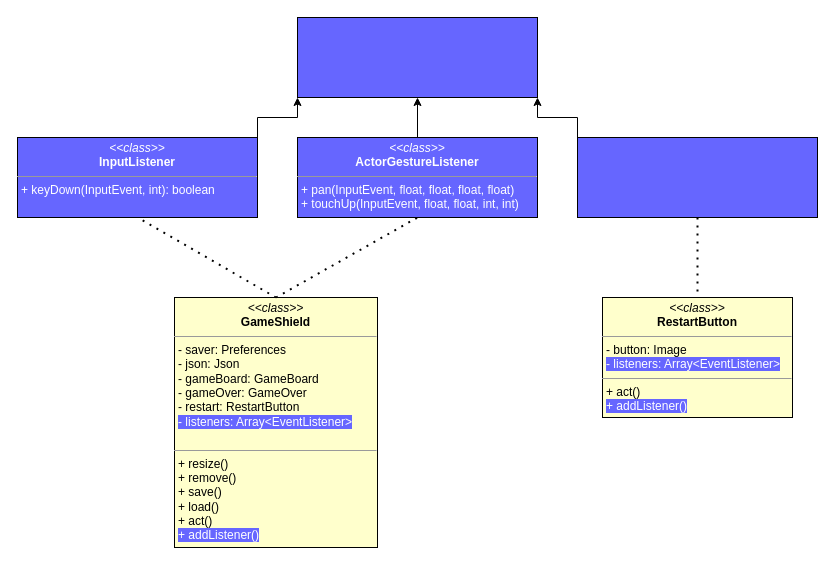
The diagram is 835 pixels wide and 565 high, and some of its shapes have lost their labels. The shapes that lost their labels are listed below. From the top down, each one's centre as x and y in pixels, then its label:
At pixel 417 57: "<<class>> EventListener + handle()".
At pixel 697 177: "<<class>> ClickListener + clicked(InputEvent, int, int)".
